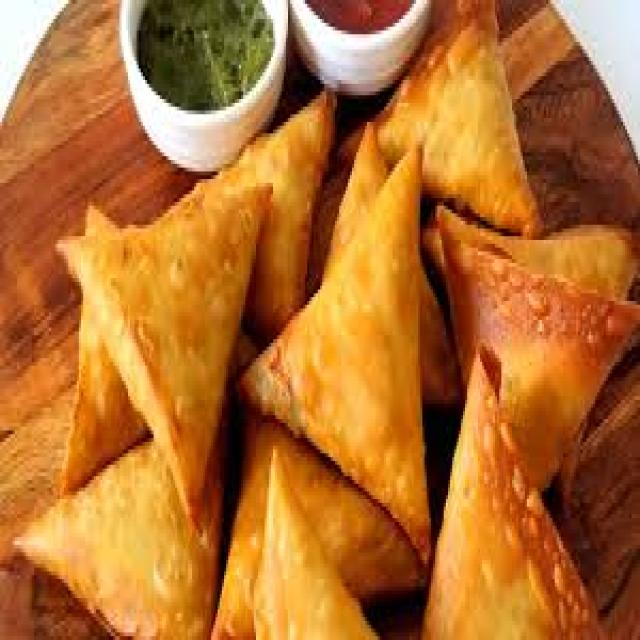SAMOSA: (244, 145, 430, 563), (58, 174, 275, 511), (442, 206, 638, 489), (423, 347, 612, 636), (343, 0, 543, 235), (174, 94, 337, 380), (210, 420, 420, 636), (15, 438, 216, 636), (325, 124, 395, 271)
